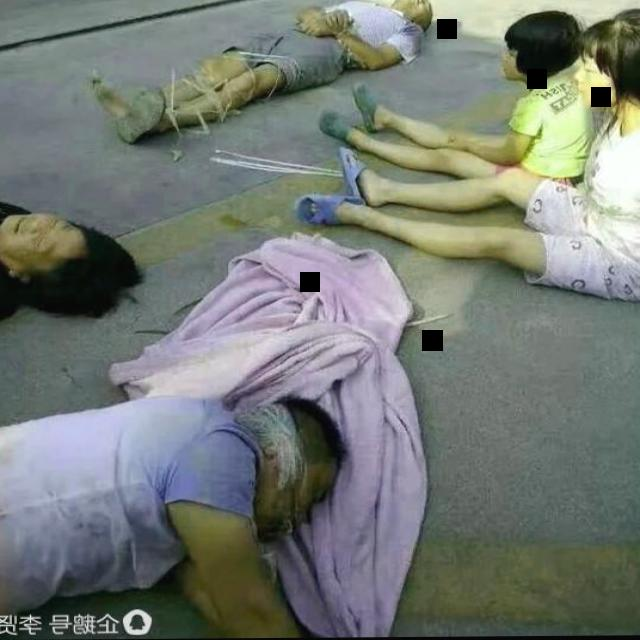Fall-Detected: (0, 102, 151, 353)
